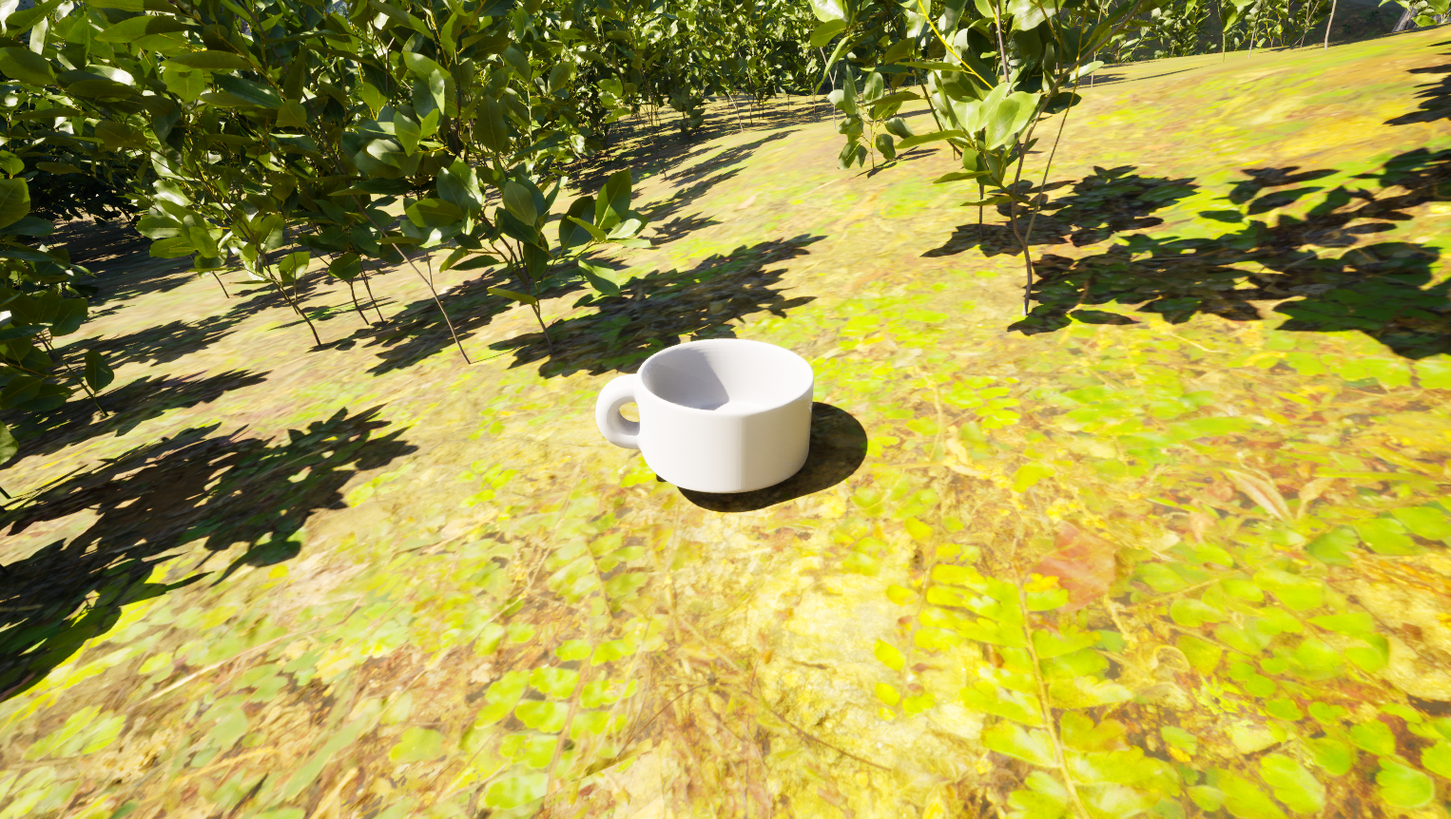Teacup: (577, 324, 841, 517)
